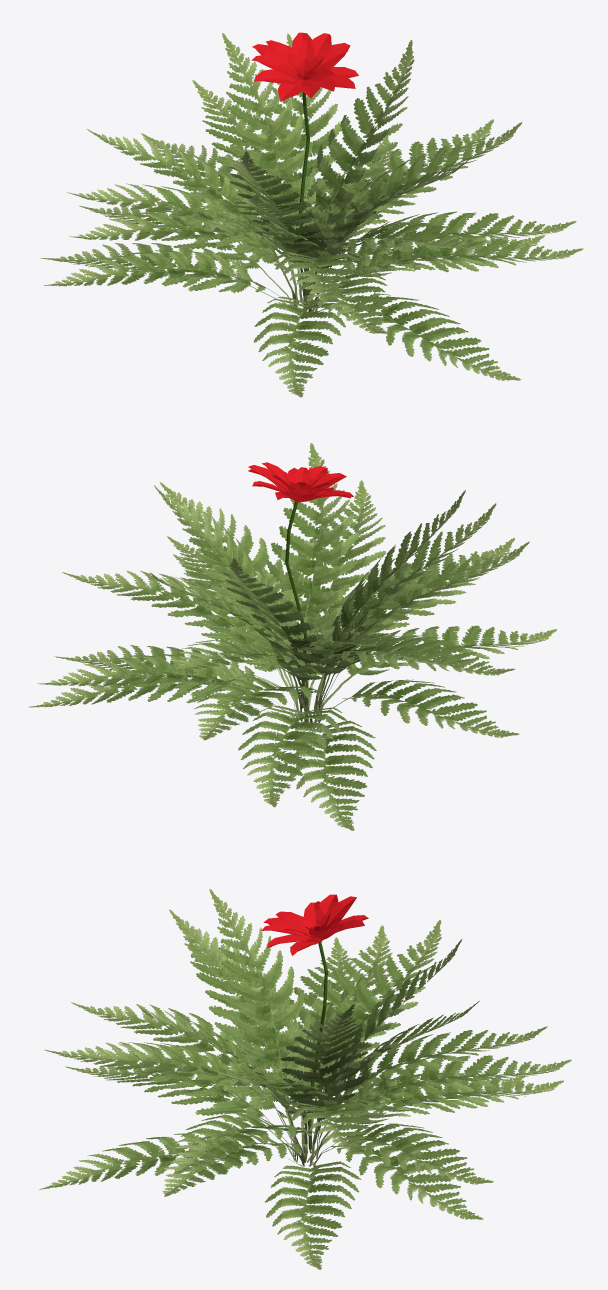
File: Blooming fern.fbx
3 views of the same model, one above another, from view 1: azimuth 30°, elevation 25°; view 2: azimuth 150°, elevation 25°; view 3: azimuth 270°, elevation 25° (orthographic).
Parts seen in each view (by area): view 1: Cylinder; view 2: Cylinder; view 3: Cylinder.
Boxes of the visible parts, box(x1,y1,x2,y2) form: Cylinder: box(40, 32, 583, 397); Cylinder: box(28, 443, 556, 830); Cylinder: box(39, 889, 571, 1269).
Size of the model in its own units: 244 by 132 by 245.
Materials: 3 (1 with a texture image).
